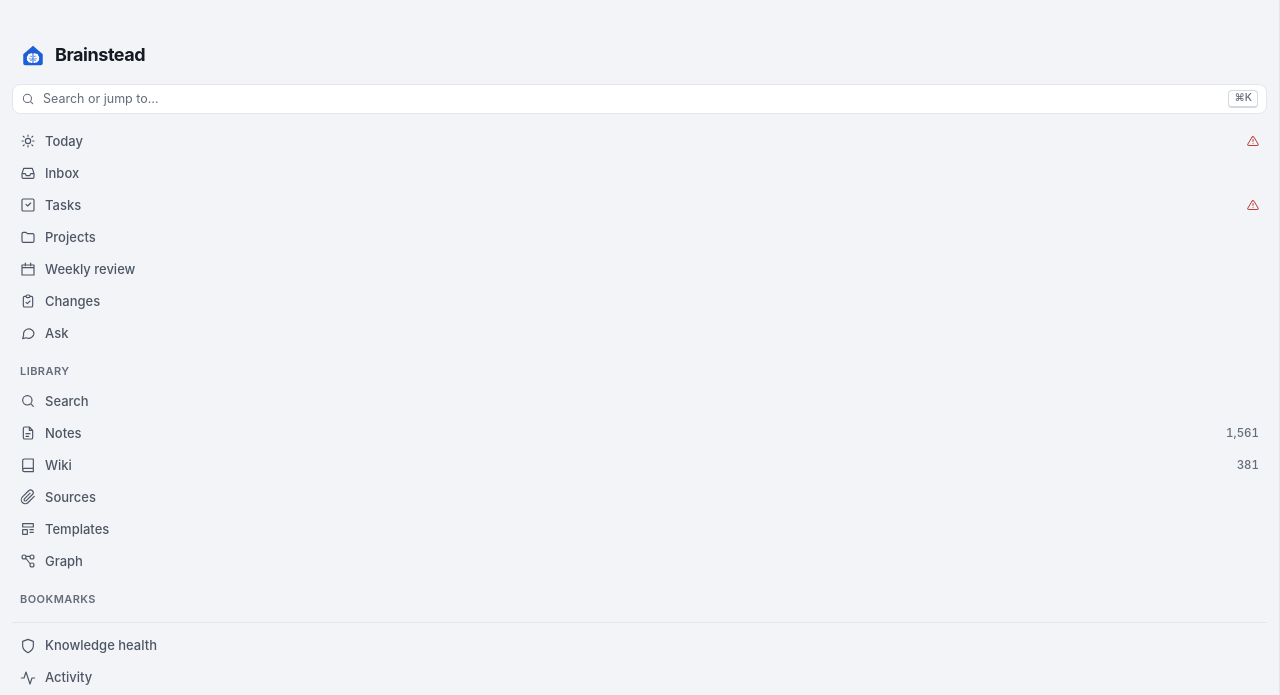
Sidebar › folds a section
The width and height of the screenshot is (1280, 695).
Click the button "Library": click(45, 371) [12,350,1267,384]
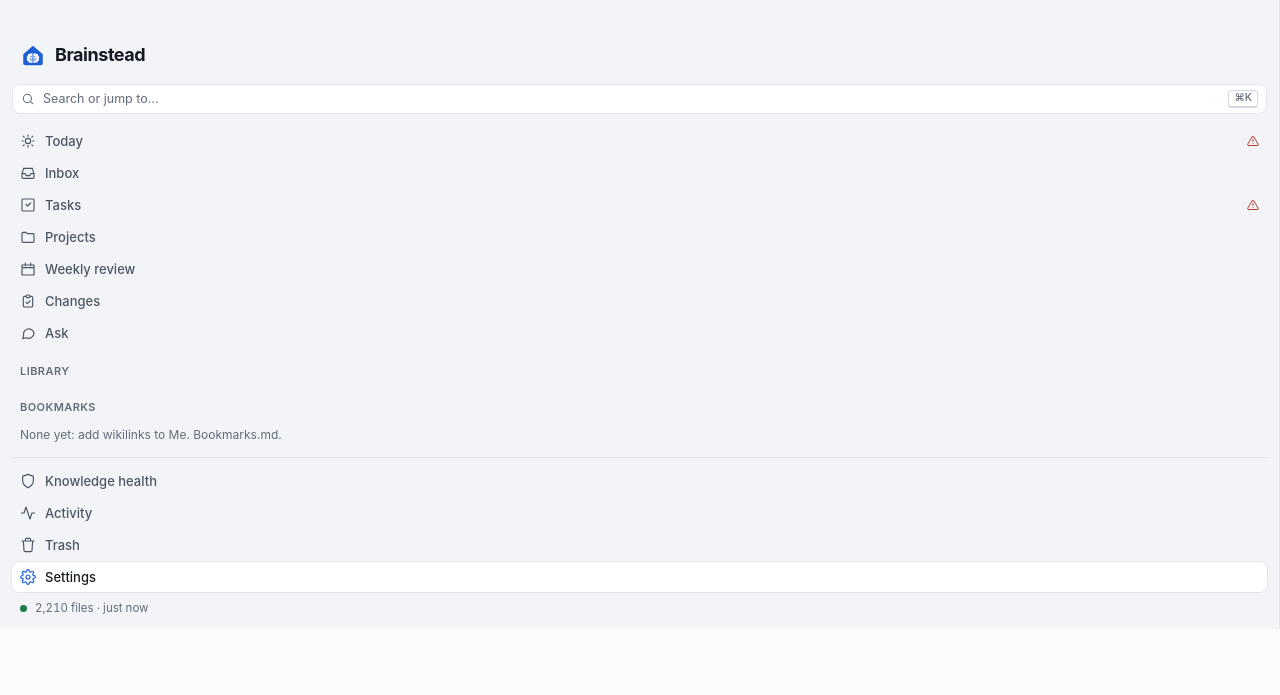
Expected: the button "Graph" is gone
